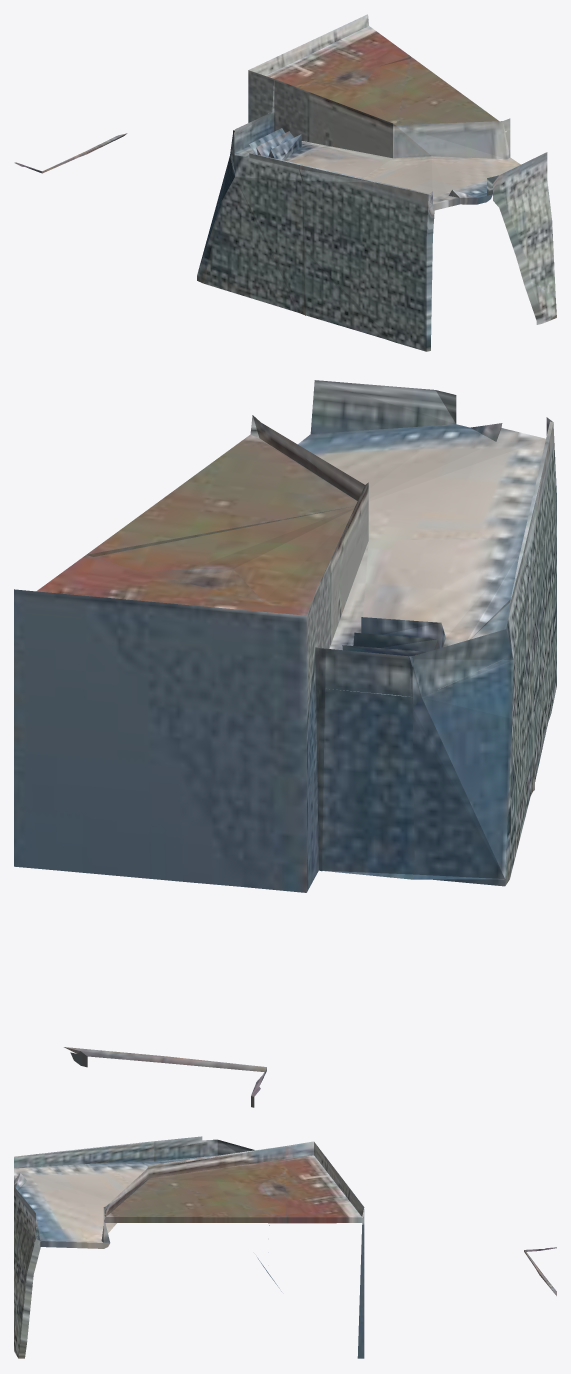
File: chunk_-2_-5.glb
3 views of the same model, one above another, from view 1: azimuth 30°, elevation 25°; view 2: azimuth 150°, elevation 25°; view 3: azimuth 270°, elevation 25° (orthographic). The views are drawn at different scales.
Parts seen in each view (by area): view 1: hero-chunk; view 2: hero-chunk; view 3: hero-chunk.
Part boxes in pixels (x1=…): hero-chunk: x1=14, y1=14, x2=556, y2=351; hero-chunk: x1=14, y1=380, x2=556, y2=1107; hero-chunk: x1=14, y1=1136, x2=556, y2=1358.
Size of the model in its own units: 37.25 by 24.4 by 76.32.
1 material, 1 textured.
